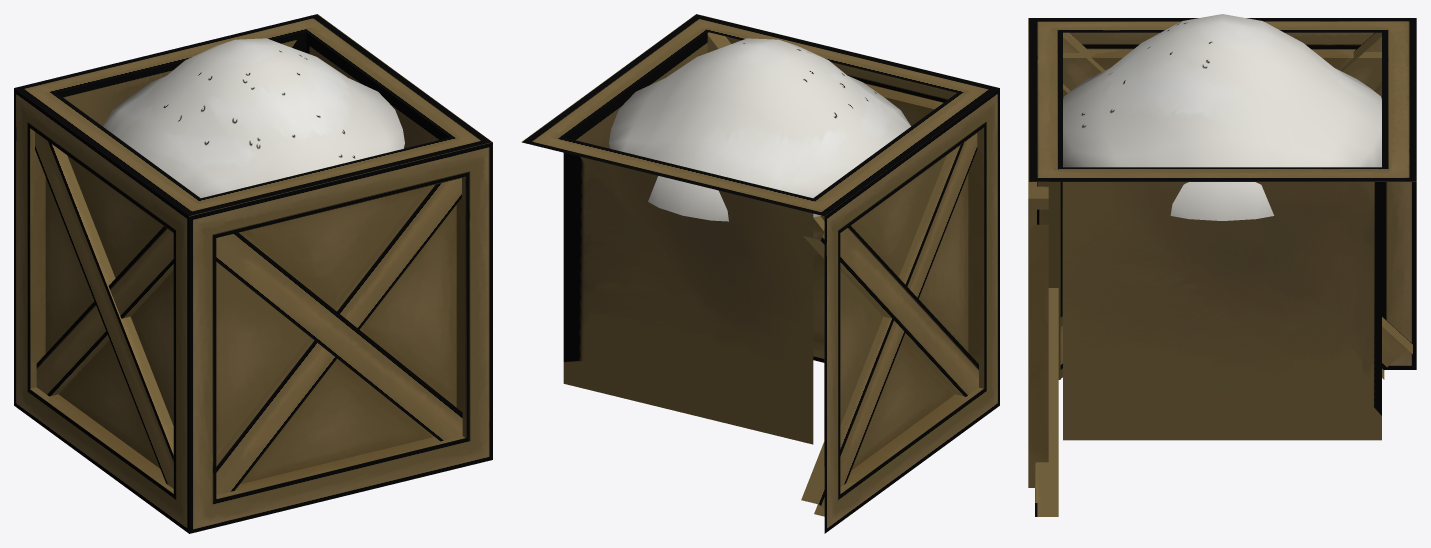
File: Saltcrate.fbx
3 renders of one model, left to right at view 1: azimuth 30°, elevation 25°; view 2: azimuth 150°, elevation 25°; view 3: azimuth 270°, elevation 25°, orthographic. The views are drawn at different scales.
Parts seen in each view (by area): view 1: polySurface6, polySurface5, pPlane1, polySurface3, polySurface7, polySurface8, polySurface1, polySurface4; view 2: polySurface3, polySurface5, pPlane1, polySurface4, polySurface1, polySurface6; view 3: polySurface3, pPlane1, polySurface5, polySurface6, polySurface8, polySurface7, polySurface4, polySurface1.
Part boxes in pixels (x1,y1,x2,y2): polySurface6: (189,142,492,533); polySurface5: (14,88,189,533); pPlane1: (103,38,404,197); polySurface3: (14,14,492,216); polySurface7: (216,178,461,494); polySurface8: (216,232,462,441); polySurface1: (35,132,173,488); polySurface4: (36,226,173,396); polySurface3: (521,14,999,444); polySurface5: (824,88,999,533); pPlane1: (609,38,910,221); polySurface4: (801,133,977,516); polySurface1: (803,225,978,396); polySurface6: (707,32,956,362); polySurface3: (1028,18,1416,440); pPlane1: (1063,14,1381,220); polySurface5: (1060,32,1416,369); polySurface6: (1028,182,1048,487); polySurface8: (1035,288,1058,516); polySurface7: (1037,182,1060,379); polySurface4: (1063,32,1412,379); polySurface1: (1060,32,1381,378).
Size of the model in its own units: 1.47 by 1.78 by 1.47.
4 materials, 4 textured.
